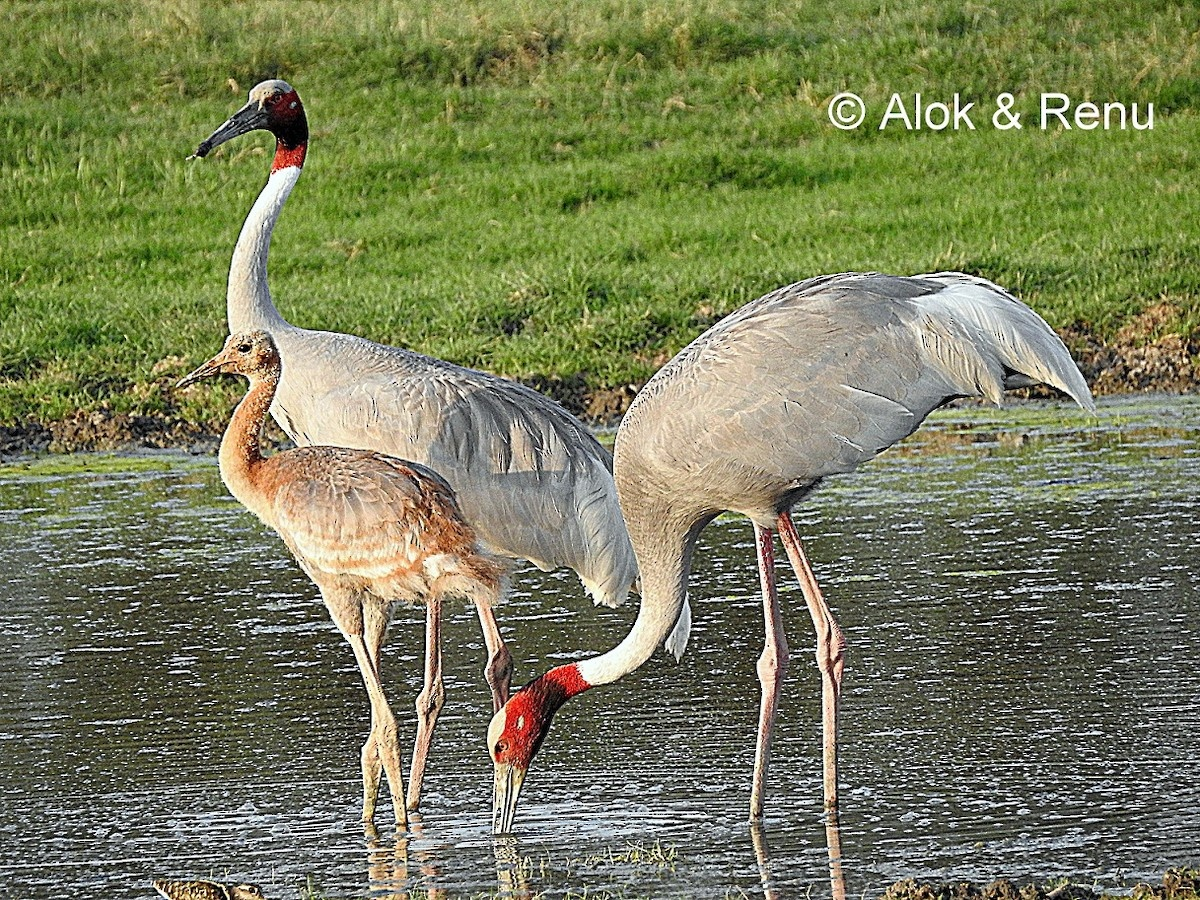crane: (454, 230, 1089, 875), (175, 325, 484, 826), (188, 51, 371, 328)
